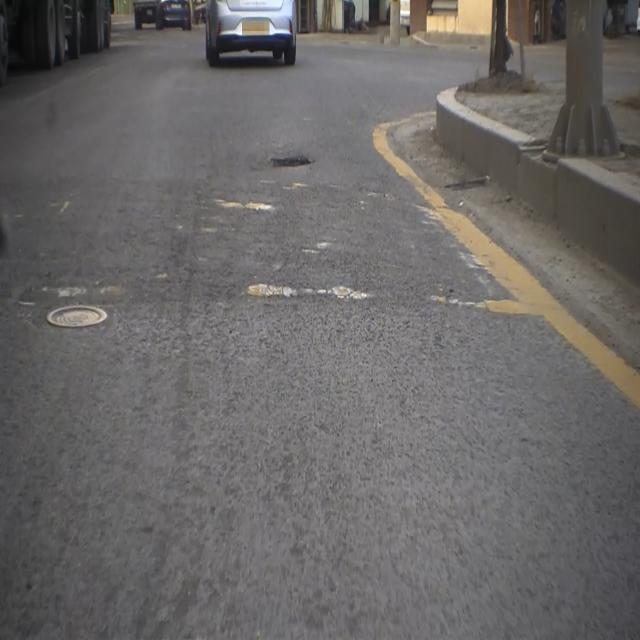Pothole: (265, 153, 320, 170)
